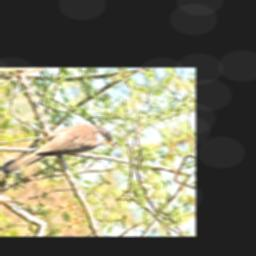Cuckoo: (0, 115, 117, 185)
